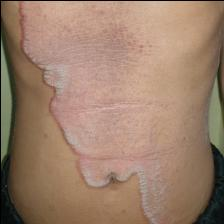Psoriasis vulgaris: (38, 93, 130, 192), (10, 2, 94, 92), (134, 162, 196, 224)
